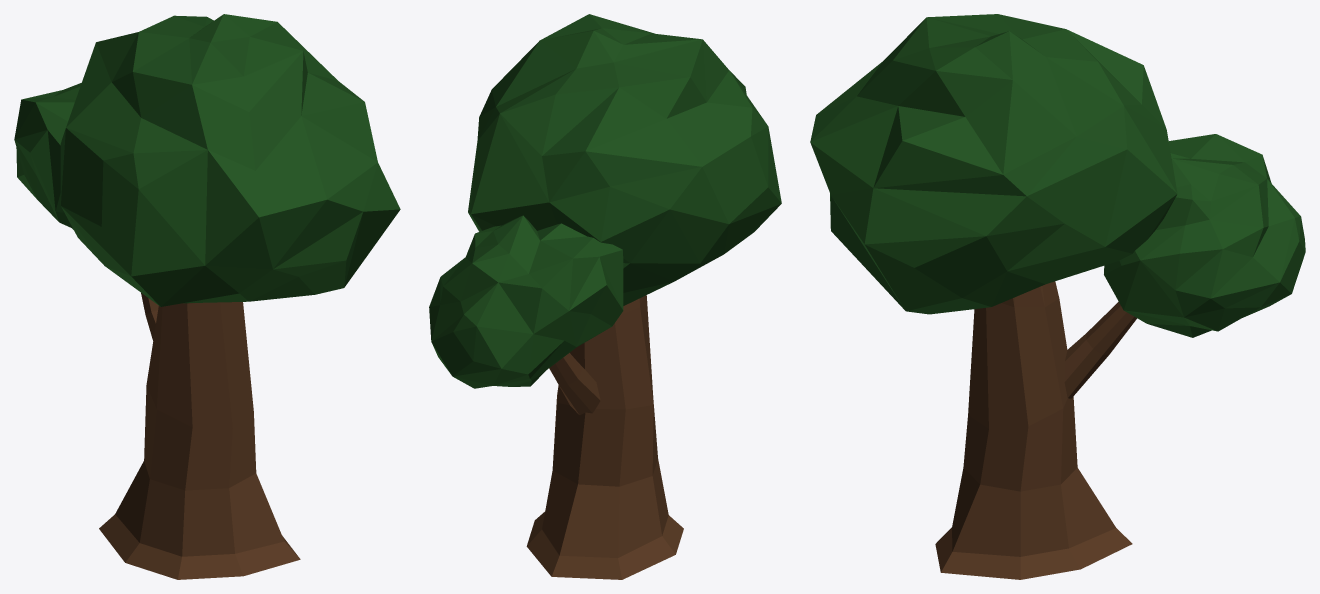
File: oak1.fbx
3 views of the same model, side by side, from view 1: azimuth 30°, elevation 25°; view 2: azimuth 150°, elevation 25°; view 3: azimuth 270°, elevation 25° (orthographic). The views are drawn at different scales.
Visible parts, largest first — view 1: Sphere; view 2: Sphere; view 3: Sphere.
Boxes of the visible parts, <box> form: Sphere: <box>14,14,400,579</box>; Sphere: <box>429,14,781,579</box>; Sphere: <box>810,14,1305,579</box>.
Size of the model in its own units: 258 by 469 by 404.
